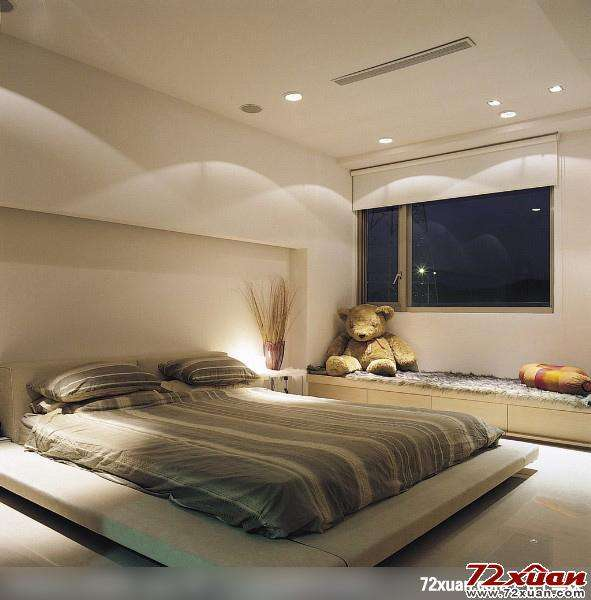床: (1, 392, 519, 567)
枕头: (28, 352, 264, 405), (511, 360, 589, 393)
灯: (489, 106, 524, 123), (237, 101, 264, 117), (278, 91, 303, 108), (373, 135, 396, 153), (543, 83, 565, 98)
